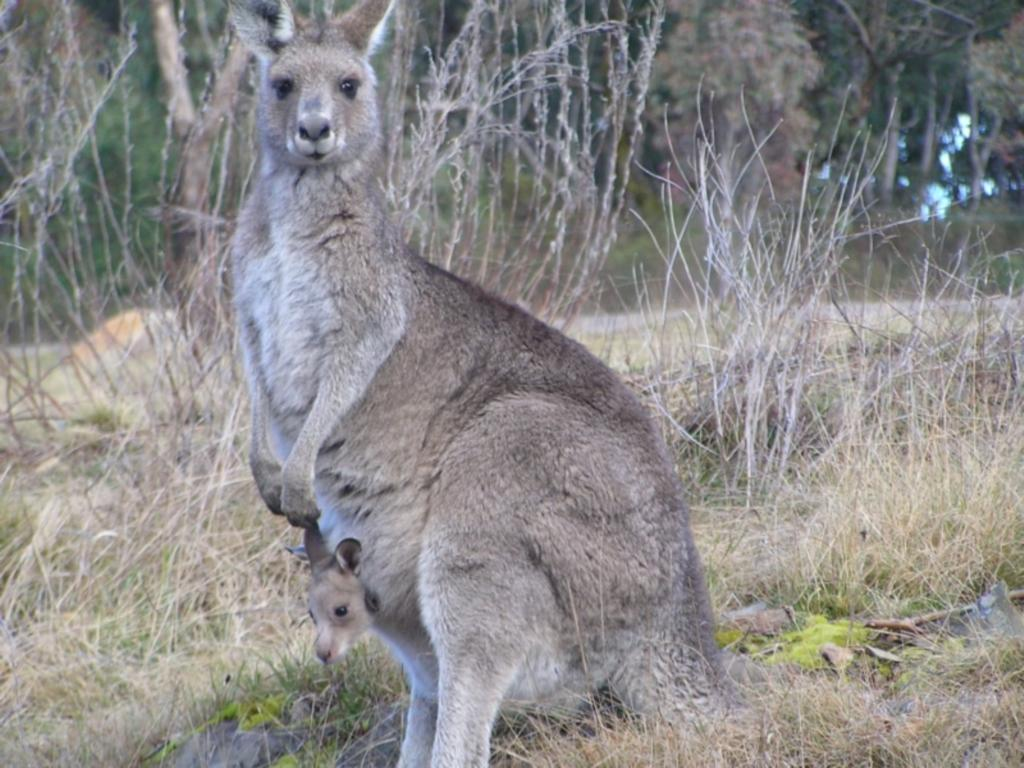Eastern grey kangaroo: (218, 0, 822, 768), (283, 521, 390, 669)
